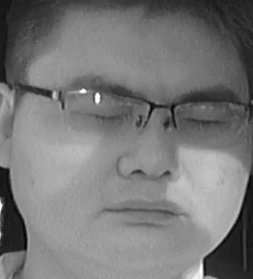blink: (185, 113, 221, 131), (87, 108, 124, 125)
glass: (57, 90, 150, 145), (168, 97, 251, 147)
mouth: (104, 195, 185, 228)
